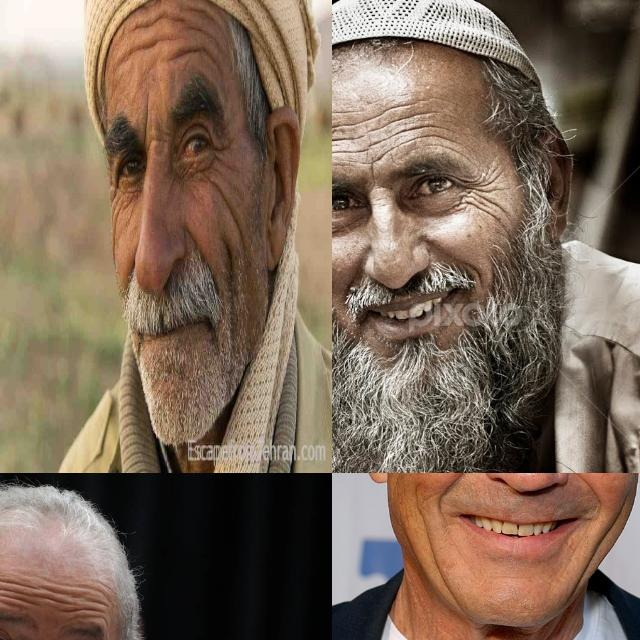crows_feet: (460, 178, 490, 212), (209, 132, 226, 170), (108, 178, 121, 220)
forehead: (392, 101, 426, 145), (432, 114, 462, 154), (356, 114, 384, 154), (76, 588, 106, 620), (31, 582, 67, 608), (332, 112, 349, 160), (134, 33, 163, 58), (4, 580, 26, 610), (136, 9, 162, 33), (174, 44, 202, 63), (114, 42, 131, 72), (172, 8, 193, 32)
frown_line: (141, 106, 154, 149)
gummy_smile: (432, 473, 470, 502), (581, 474, 609, 512), (184, 223, 199, 254)
masseter: (416, 519, 454, 587), (580, 517, 614, 581), (221, 191, 243, 242), (224, 243, 235, 288)
sad_smile: (466, 259, 490, 295)
